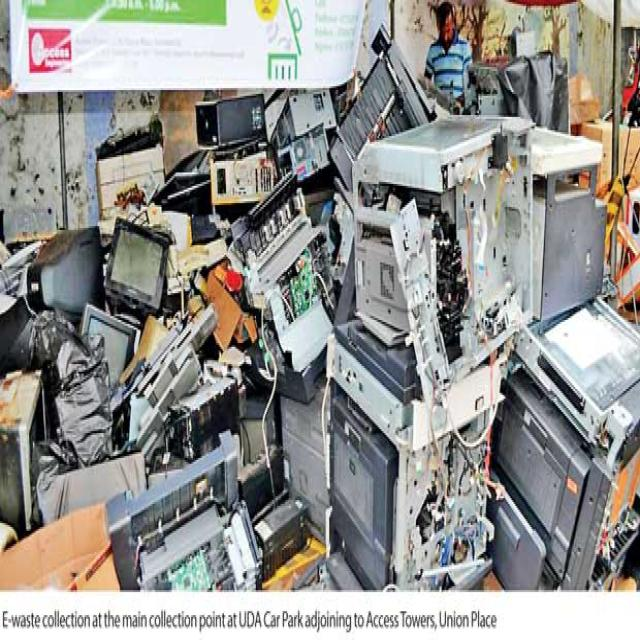Hazard: (0, 0, 627, 570)
